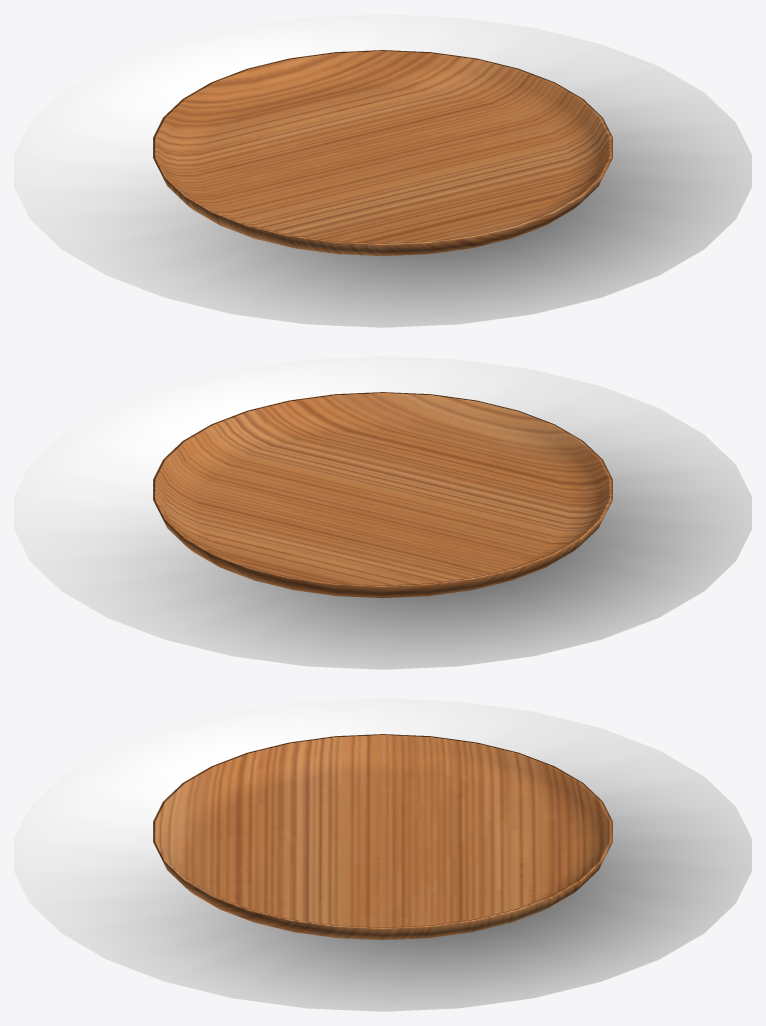
Rendered from pi_dish02.gltf.
The picture shows the model from 3 angles, top to bottom: view 1: azimuth 30°, elevation 25°; view 2: azimuth 150°, elevation 25°; view 3: azimuth 270°, elevation 25°; orthographic projection.
Parts seen in each view (by area): view 1: um_pi_dish02_model_pi_dish02_modelShape:mat_texture_shadow01, um_pi_dish02_model_pi_dish02_modelShape:pi_dish02_main; view 2: um_pi_dish02_model_pi_dish02_modelShape:mat_texture_shadow01, um_pi_dish02_model_pi_dish02_modelShape:pi_dish02_main; view 3: um_pi_dish02_model_pi_dish02_modelShape:mat_texture_shadow01, um_pi_dish02_model_pi_dish02_modelShape:pi_dish02_main.
Boxes of the visible parts, x1,y1,x2,y2 form: um_pi_dish02_model_pi_dish02_modelShape:mat_texture_shadow01: [14, 14, 751, 327]; um_pi_dish02_model_pi_dish02_modelShape:pi_dish02_main: [153, 50, 612, 256]; um_pi_dish02_model_pi_dish02_modelShape:mat_texture_shadow01: [14, 356, 751, 669]; um_pi_dish02_model_pi_dish02_modelShape:pi_dish02_main: [153, 392, 612, 598]; um_pi_dish02_model_pi_dish02_modelShape:mat_texture_shadow01: [14, 698, 751, 1011]; um_pi_dish02_model_pi_dish02_modelShape:pi_dish02_main: [153, 734, 612, 940].
Bounding box in the file's own units: 0.4092 × 0.0162 × 0.407.
Materials: 2 (1 with a texture image).
